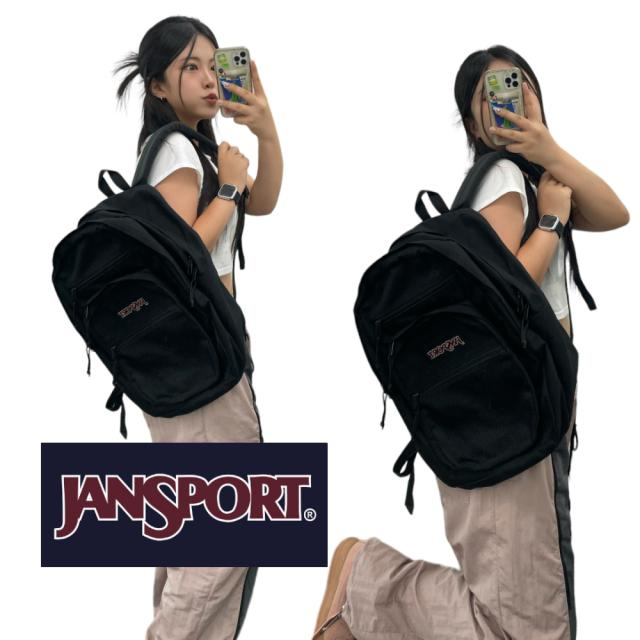backpack: (354, 176, 600, 477), (39, 128, 270, 412)
